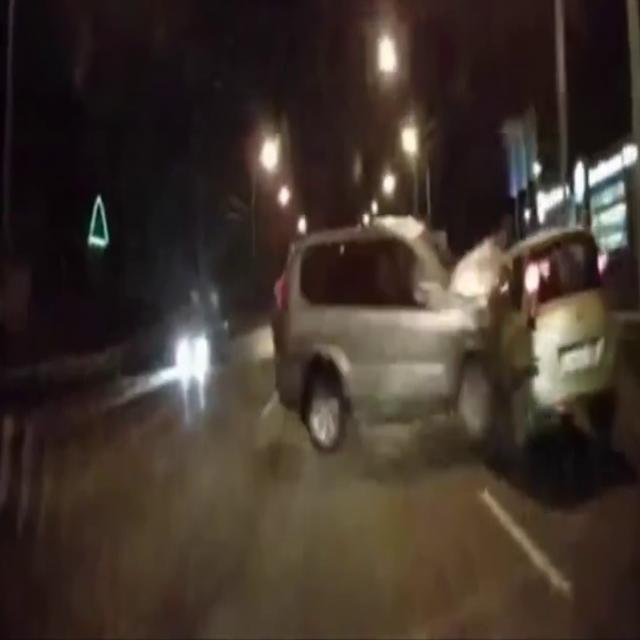accident: (287, 218, 606, 467)
